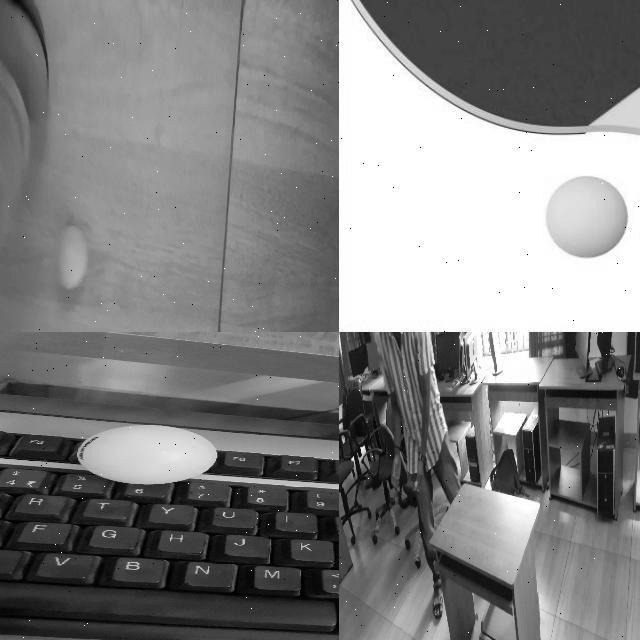ping-pong-ball: (77, 424, 215, 486), (545, 176, 627, 258), (54, 226, 86, 290), (414, 479, 417, 492)
